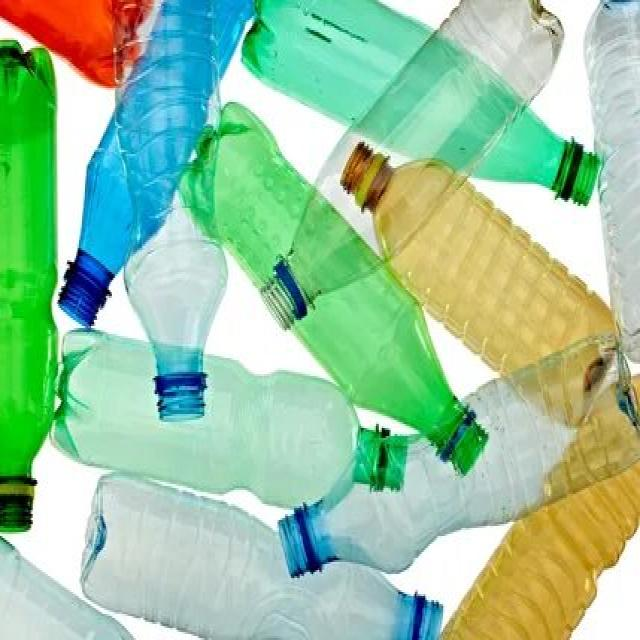blue: (83, 475, 443, 640)
brown: (339, 143, 622, 428)
green: (175, 102, 487, 475), (239, 0, 599, 205), (0, 42, 56, 530)
